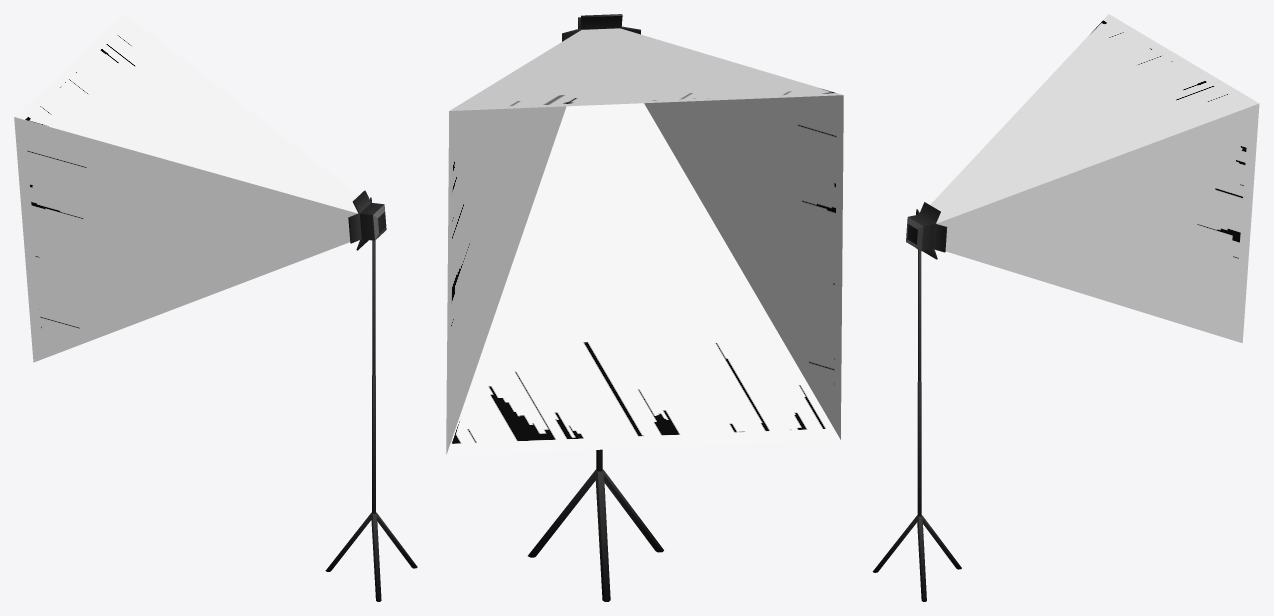
File: lamp_2.glb
The picture shows the model from 3 angles, left to right: view 1: azimuth 30°, elevation 25°; view 2: azimuth 150°, elevation 25°; view 3: azimuth 270°, elevation 25°; orthographic projection. The views are drawn at different scales.
Parts seen in each view (by area): view 1: blash_light.004, light_point.002, light_point_body.002, light_point_upPart.002; view 2: blash_light.004, light_point.002, light_point_body.002; view 3: blash_light.004, light_point.002, light_point_body.002, light_point_upPart.002.
Boxes of the visible parts, x1,y1,x2,y2 form: blash_light.004: (14, 14, 358, 362); light_point.002: (325, 374, 417, 601); light_point_body.002: (348, 190, 386, 250); light_point_upPart.002: (372, 240, 375, 375); blash_light.004: (446, 28, 843, 455); light_point.002: (528, 449, 663, 601); light_point_body.002: (562, 14, 640, 41); blash_light.004: (930, 14, 1259, 343); light_point.002: (872, 381, 961, 601); light_point_body.002: (906, 202, 947, 259); light_point_upPart.002: (918, 250, 921, 381).
Bounding box in the file's own units: 2.25 × 3.18 × 2.52.
2 materials, 2 textured.
